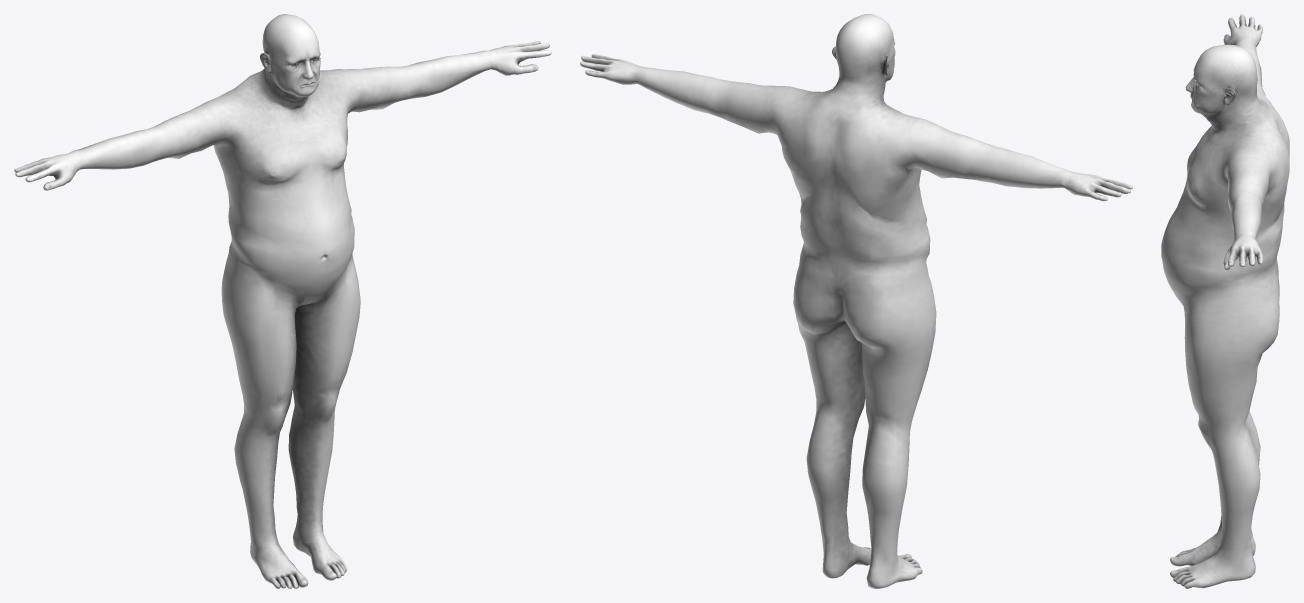
File: man2.obj
3 renders of one model, left to right at view 1: azimuth 30°, elevation 25°; view 2: azimuth 150°, elevation 25°; view 3: azimuth 270°, elevation 25°, orthographic. The views are drawn at different scales.
Parts seen in each view (by area): view 1: l-upperleg-frontal-thigh, r-upperleg-frontal-thigh, l-hip, r-lowerleg, l-lowerarm, l-hip-middle-abdomen, l-lowerleg, r-lowerarm, l-torso-upper-pectoralis, l-upperarm-biceps, l-torso-ribs, l-torso-clavicle (+18 smaller); view 2: l-pelvis-gluteus, r-upperleg-thigh-back, l-upperleg-thigh-back, r-pelvis-gluteus, l-lowerleg-calf, r-lowerleg-calf, l-lowerarm, l-hip, l-upperarm-triceps, r-lowerarm, l-torso-back-scapula, l-upperleg-frontal-thigh (+24 smaller); view 3: r-upperleg-frontal-thigh, r-pelvis-gluteus, r-hip, r-upperleg-thigh-back, r-lowerleg-calf, r-lowerleg, r-torso-ribs, r-hip-middle-abdomen, r-lowerarm, r-torso-upper-shoulder, r-foot-ankle, r-torso-back-scapula (+29 smaller).
Part boxes in pixels (x1,y1,x2,y2): l-upperleg-frontal-thigh: (225, 263, 297, 438); r-upperleg-frontal-thigh: (293, 253, 360, 430); l-hip: (228, 193, 294, 290); r-lowerleg: (294, 420, 334, 510); l-lowerarm: (74, 127, 162, 169); l-hip-middle-abdomen: (268, 212, 324, 272); l-lowerleg: (243, 435, 279, 523); r-lowerarm: (402, 51, 491, 99); l-torso-upper-pectoralis: (238, 118, 307, 160); l-upperarm-biceps: (155, 116, 228, 159); l-torso-ribs: (222, 165, 279, 221); l-torso-clavicle: (231, 85, 300, 127); l-pelvis-gluteus: (837, 255, 925, 347); r-upperleg-thigh-back: (797, 321, 863, 445); l-upperleg-thigh-back: (862, 316, 923, 459); r-pelvis-gluteus: (793, 242, 844, 332); l-lowerleg-calf: (862, 427, 908, 522); r-lowerleg-calf: (806, 425, 853, 509); l-lowerarm: (975, 143, 1065, 188); l-hip: (865, 205, 930, 269); l-upperarm-triceps: (908, 129, 986, 180); r-lowerarm: (638, 67, 728, 116); l-torso-back-scapula: (851, 158, 918, 216); l-upperleg-frontal-thigh: (901, 259, 936, 455); r-upperleg-frontal-thigh: (1182, 292, 1243, 462); r-pelvis-gluteus: (1221, 259, 1279, 347); r-hip: (1174, 235, 1277, 299); r-upperleg-thigh-back: (1229, 334, 1268, 464); r-lowerleg-calf: (1228, 438, 1260, 517); r-lowerleg: (1214, 458, 1252, 541); r-torso-ribs: (1188, 205, 1273, 242); r-hip-middle-abdomen: (1161, 218, 1194, 274); r-lowerarm: (1230, 187, 1262, 238); r-torso-upper-shoulder: (1226, 141, 1276, 172); r-foot-ankle: (1213, 535, 1253, 571); r-torso-back-scapula: (1261, 167, 1289, 225).
Bounding box in the file's own units: 17.69 × 17.3 × 3.84.
1 material, 1 textured.
